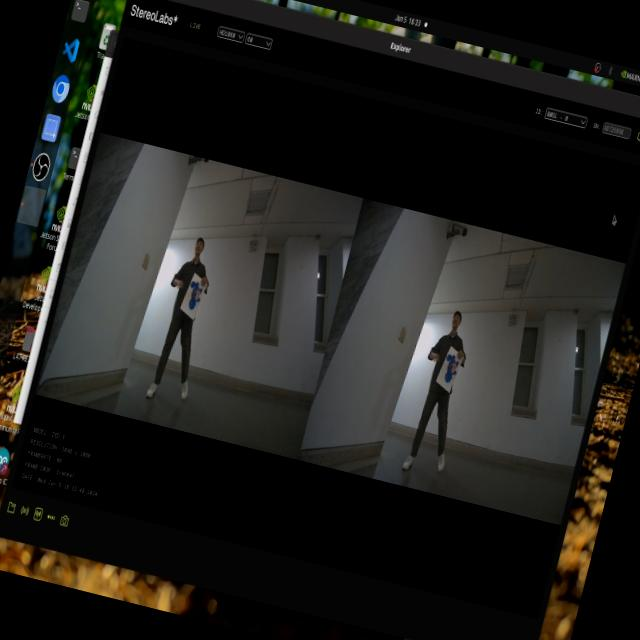blue: (181, 274, 209, 322), (438, 350, 464, 390)
